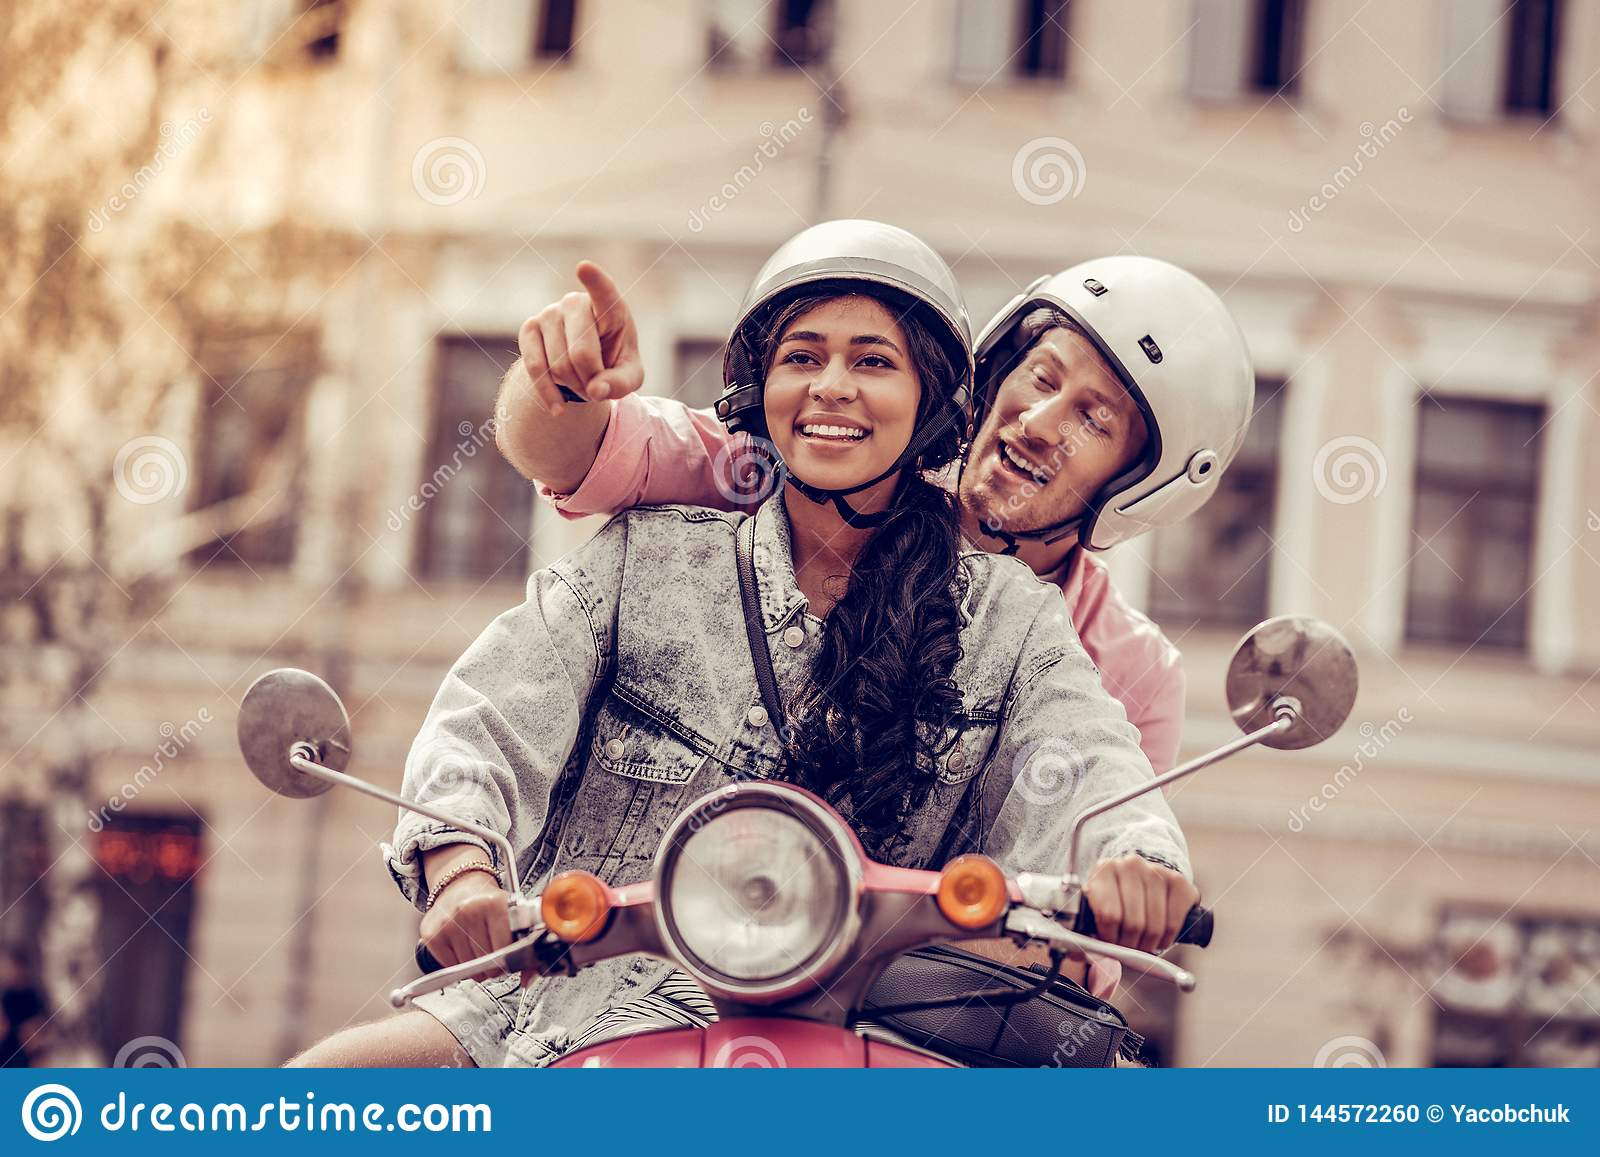helmet: (1012, 273, 1260, 562), (716, 203, 944, 334)
